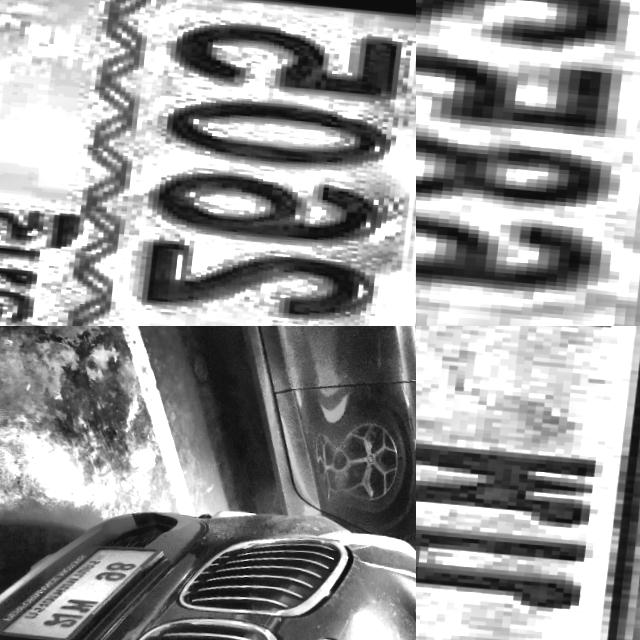license-plate: (0, 0, 416, 326), (416, 0, 640, 326), (416, 326, 640, 640), (0, 527, 172, 640)
